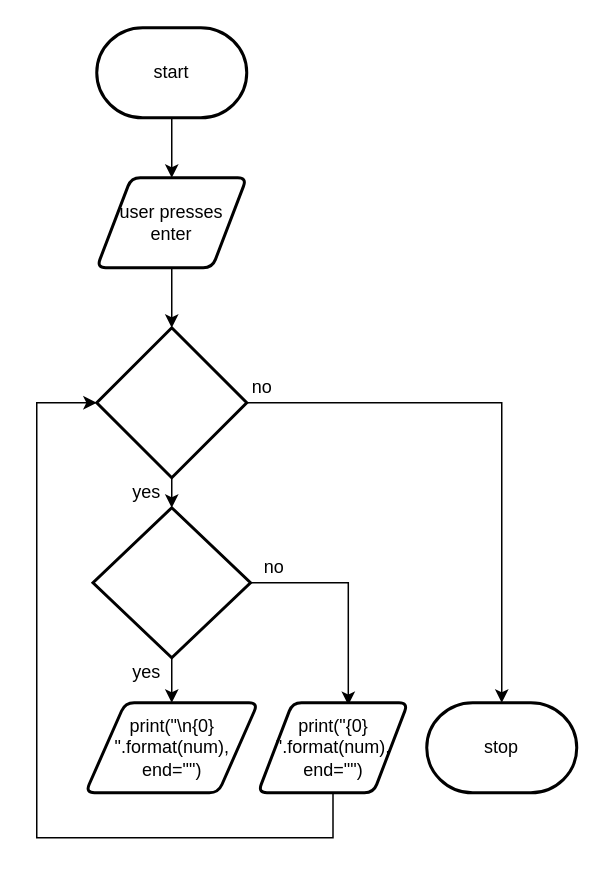
This 605x876 diagram has some shape labels left out. The centre of each missing label's shape, as x and y in pixels:
"for num in range(1000, 2001)" belongs at (171,402).
"if num % 5 == 0 and num != 1000" belongs at (171,582).
